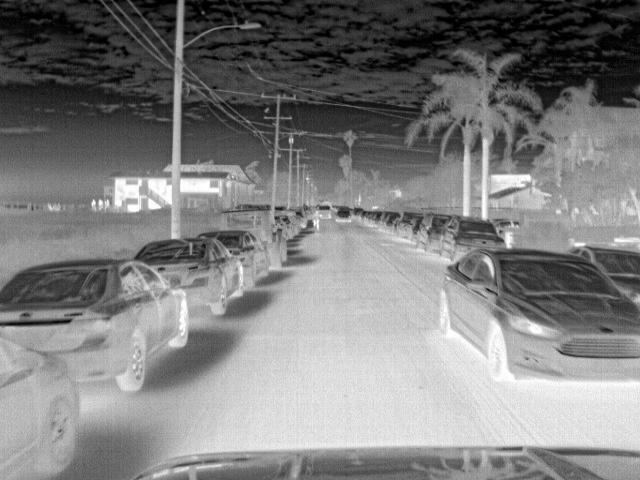car: (442, 244, 640, 383), (1, 258, 190, 392), (3, 336, 80, 477), (138, 236, 247, 315), (198, 229, 273, 287), (218, 209, 290, 266), (574, 244, 639, 304), (437, 218, 506, 259), (413, 212, 456, 251), (286, 204, 308, 230), (396, 211, 417, 238), (274, 215, 295, 241), (383, 211, 402, 232), (335, 208, 352, 224), (315, 204, 332, 220), (352, 206, 367, 220)
person: (310, 206, 323, 232), (90, 196, 98, 213), (96, 197, 104, 212), (105, 197, 112, 212)
